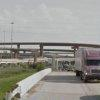Bridge: (1, 32, 97, 51)
